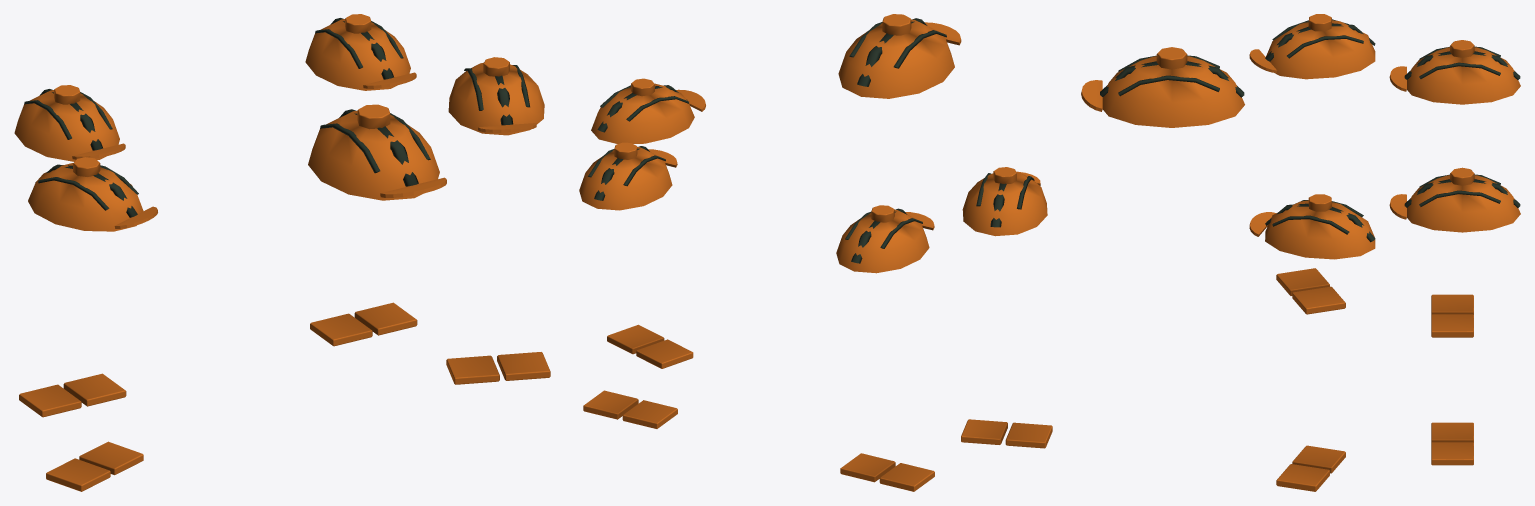
The model's file is trail-shredders-lod1.glb.
The picture shows the model from 3 angles, left to right: view 1: azimuth 30°, elevation 25°; view 2: azimuth 150°, elevation 25°; view 3: azimuth 270°, elevation 25°; orthographic projection. The views are drawn at different scales.
Visible parts, largest first — view 1: cap_hat, att3_hat, att0_hat, att1_hat, att2_hat, att3_leg_r_trim, att0_leg_r_trim, att1_leg_r_trim, att0_leg_l_trim, att1_leg_l_trim, att2_leg_r_trim, att2_leg_l_trim (+1 smaller); view 2: cap_hat, att2_hat, att0_hat, att1_hat, att3_hat, att2_leg_r_trim, att0_leg_r_trim, att1_leg_r_trim, att0_leg_l_trim, att1_leg_l_trim, att3_leg_r_trim, att3_leg_l_trim (+1 smaller); view 3: cap_hat, att0_hat, att1_hat, att2_hat, att3_hat, att3_leg_l_trim, att2_leg_l_trim, att0_leg_l_trim, att1_leg_l_trim, att3_leg_r_trim, att2_leg_r_trim, att0_leg_r_trim (+1 smaller).
Boxes of the visible parts, box(x1,y1,x2,y2) form: cap_hat: box(308, 104, 446, 200); att3_hat: box(28, 157, 157, 231); att0_hat: box(305, 14, 416, 90); att1_hat: box(14, 85, 125, 161); att2_hat: box(448, 57, 544, 135); att3_leg_r_trim: box(46, 458, 110, 491); att0_leg_r_trim: box(310, 313, 372, 346); att1_leg_r_trim: box(19, 384, 81, 417); att0_leg_l_trim: box(354, 302, 417, 335); att1_leg_l_trim: box(63, 373, 126, 406); att2_leg_r_trim: box(446, 355, 499, 384); att2_leg_l_trim: box(497, 352, 550, 380); cap_hat: box(838, 14, 961, 98); att2_hat: box(591, 78, 705, 143); att0_hat: box(579, 142, 677, 210); att1_hat: box(836, 205, 934, 273); att3_hat: box(962, 167, 1047, 236); att2_leg_r_trim: box(636, 339, 693, 368); att0_leg_r_trim: box(622, 400, 677, 428); att1_leg_r_trim: box(879, 463, 934, 491); att0_leg_l_trim: box(583, 390, 638, 419); att1_leg_l_trim: box(840, 453, 895, 482); att3_leg_r_trim: box(1005, 422, 1052, 448); att3_leg_l_trim: box(961, 419, 1007, 444); cap_hat: box(1081, 47, 1244, 127); att0_hat: box(1389, 167, 1520, 232); att1_hat: box(1389, 40, 1520, 104); att2_hat: box(1249, 194, 1375, 259); att3_hat: box(1249, 14, 1375, 79); att3_leg_l_trim: box(1292, 286, 1345, 314); att2_leg_l_trim: box(1276, 464, 1329, 491); att0_leg_l_trim: box(1431, 442, 1473, 465); att1_leg_l_trim: box(1431, 314, 1473, 337); att3_leg_r_trim: box(1276, 268, 1329, 295); att2_leg_r_trim: box(1292, 445, 1345, 473); att0_leg_r_trim: box(1431, 422, 1473, 442).
Size of the model in its own units: 2.12 by 1.49 by 1.8.
